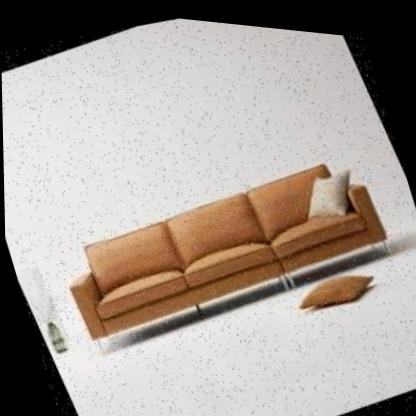Sofa: (11, 81, 416, 416)
